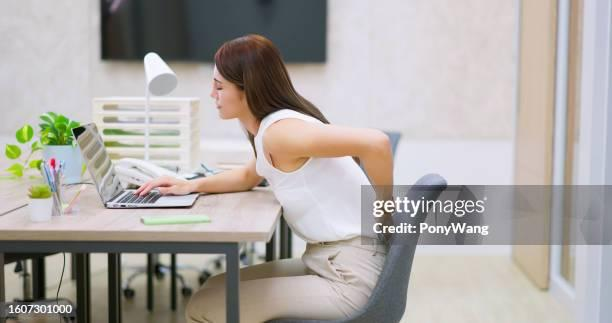Bad Sitting Posture: (117, 11, 477, 273)
